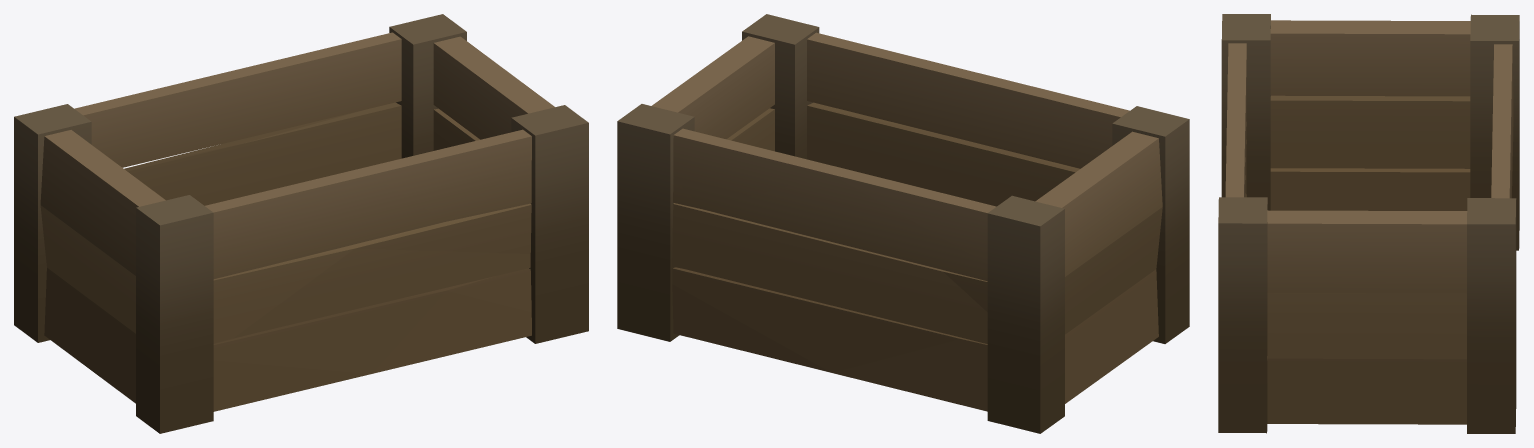
The model's file is WoodenCrate_L.fbx.
3 views of the same model, side by side, from view 1: azimuth 30°, elevation 25°; view 2: azimuth 150°, elevation 25°; view 3: azimuth 270°, elevation 25° (orthographic).
Parts seen in each view (by area): view 1: WoodenCrate_L.002; view 2: WoodenCrate_L.002; view 3: WoodenCrate_L.002.
Boxes of the visible parts, x1=… form: WoodenCrate_L.002: x1=14, y1=14, x2=588, y2=433; WoodenCrate_L.002: x1=617, y1=14, x2=1189, y2=433; WoodenCrate_L.002: x1=1218, y1=14, x2=1519, y2=433.
Size of the model in its own units: 1.51 by 0.7 by 0.9118.
1 material, 1 textured.
